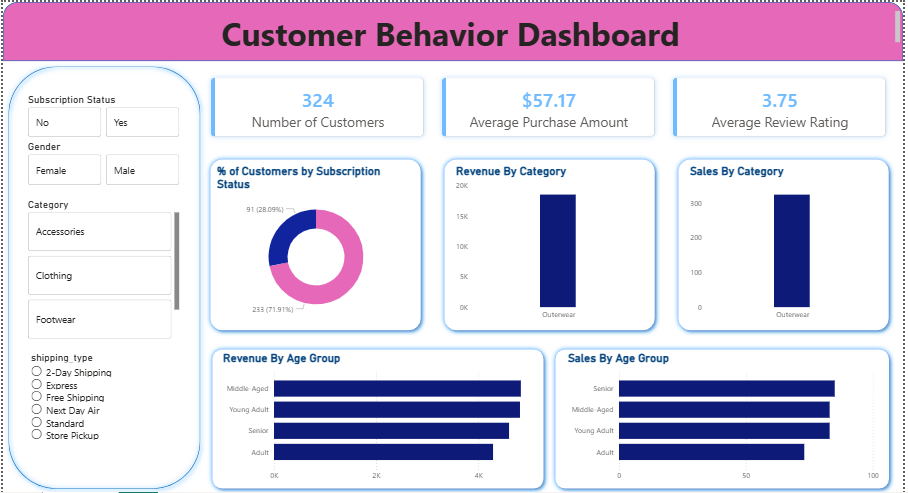

Layout of this report page (visuals, bound fields, positions):
{"tool":"powerbi","page":{"name":"Page 1","canvas":[1500,820],"ordinal":0},"visuals":[{"type":"cardVisual","fields":{"Data":["public customer.Number of Customers","public customer.Average Purchase Amount","public customer.Average Review Rating"]},"box":[318.6,98.6,1181.4,154.3],"z":0},{"type":"shape","box":[0,0,1500,98.6],"z":1000},{"type":"textbox","box":[0,10,1500,71.4],"z":2000},{"type":"shape","box":[337.1,252.9,368.6,302.9],"z":3000},{"type":"donutChart","title":"% of Customers by Subscription Status","fields":{"Category":["public customer.subscription_status"],"Y":["CountNonNull(public customer.customer_id)"]},"box":[351.4,270,340,265.7],"z":4000},{"type":"shape","box":[727.1,252.9,368.6,302.9],"z":5000},{"type":"shape","box":[1117.1,252.9,368.6,302.9],"z":6000},{"type":"clusteredColumnChart","title":"Revenue By Category","fields":{"Y":["Sum(public customer.purchase_amount)"],"Category":["public customer.category"]},"box":[750,270,322.9,268.6],"z":7000},{"type":"clusteredColumnChart","title":"Sales By Category","fields":{"Y":["CountNonNull(public customer.customer_id)"],"Category":["public customer.category"]},"box":[1140,270,322.9,268.6],"z":8000},{"type":"shape","box":[0,98,338,722],"z":9000},{"type":"advancedSlicerVisual","fields":{"Values":["public customer.subscription_status"]},"box":[37.1,151.4,262.9,78.6],"z":10000},{"type":"advancedSlicerVisual","fields":{"Values":["public customer.gender"]},"box":[37.1,230,262.9,80],"z":11000},{"type":"advancedSlicerVisual","fields":{"Values":["public customer.category"]},"box":[37.1,327.1,262.9,242.9],"z":11001},{"type":"listSlicer","fields":{"Values":["public customer.shipping_type"]},"box":[41.4,581.4,258.6,198.6],"z":11002},{"type":"shape","box":[340,570,570,250],"z":11003},{"type":"clusteredBarChart","title":"Revenue By Age Group","fields":{"Y":["Sum(public customer.purchase_amount)"],"Category":["public customer.age_group"]},"box":[362,582,528,226],"z":11004},{"type":"shape","box":[912,570,574,250],"z":11005},{"type":"clusteredBarChart","title":"Sales By Age Group","fields":{"Y":["CountNonNull(public customer.customer_id)"],"Category":["public customer.age_group"]},"box":[936,582,528,226],"z":11006}]}

Visuals, with their boxes in screenshot pixels (x1, y1, x2, y2), scaled from the page's 1500x820 canvas onto the 908x493 screenshot:
cardVisual - public customer.Number of Customers x public customer.Average Purchase Amount: crop(193, 59, 907, 152)
shape: crop(0, 0, 907, 59)
textbox: crop(0, 6, 907, 49)
shape: crop(204, 152, 427, 334)
"% of Customers by Subscription Status" donutChart: crop(213, 162, 419, 322)
shape: crop(440, 152, 663, 334)
shape: crop(676, 152, 899, 334)
"Revenue By Category" clusteredColumnChart: crop(454, 162, 649, 324)
"Sales By Category" clusteredColumnChart: crop(690, 162, 886, 324)
shape: crop(0, 59, 205, 492)
advancedSlicerVisual - public customer.subscription_status: crop(22, 91, 182, 138)
advancedSlicerVisual - public customer.gender: crop(22, 138, 182, 186)
advancedSlicerVisual - public customer.category: crop(22, 197, 182, 343)
listSlicer - public customer.shipping_type: crop(25, 350, 182, 469)
shape: crop(206, 343, 551, 492)
"Revenue By Age Group" clusteredBarChart: crop(219, 350, 539, 486)
shape: crop(552, 343, 900, 492)
"Sales By Age Group" clusteredBarChart: crop(567, 350, 886, 486)
